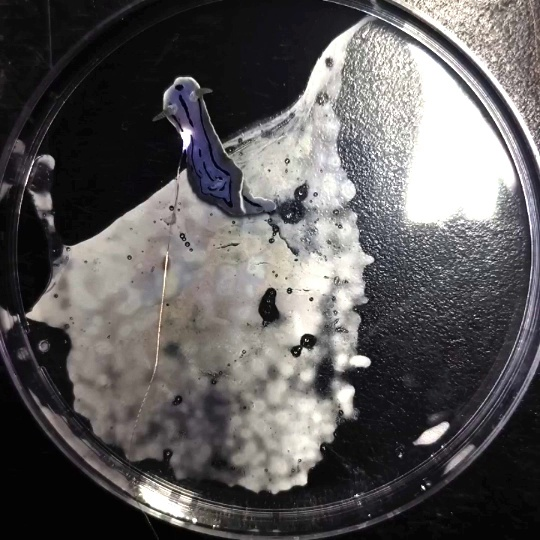sea-slug: (59, 89, 233, 208)
